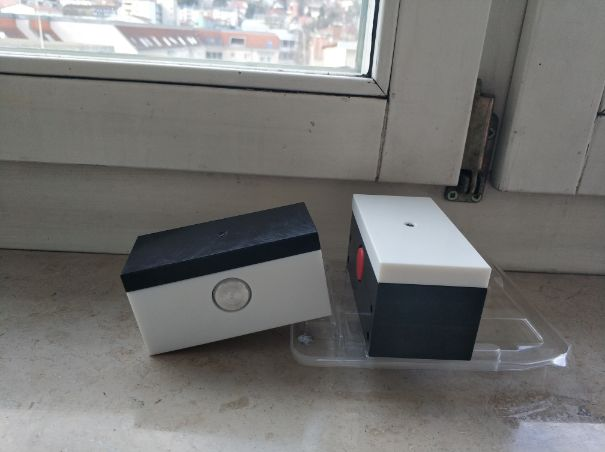black+white+silver: (116, 200, 335, 362)
white+black+red: (346, 189, 494, 365)
